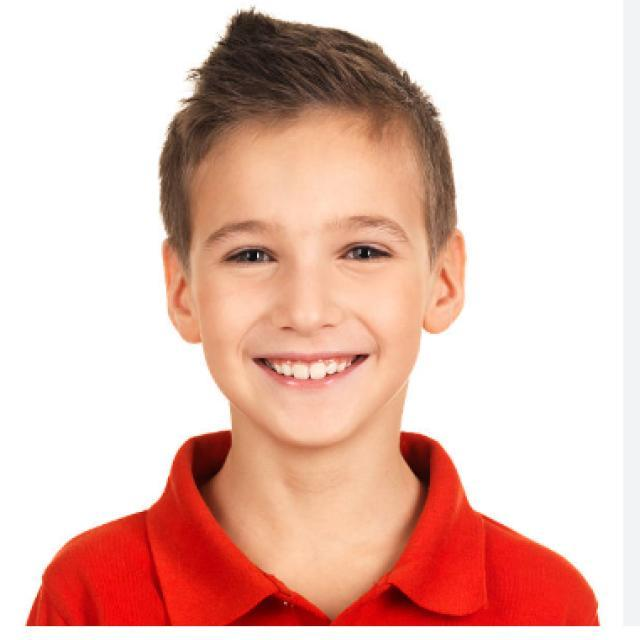face_no_mask: (155, 115, 468, 438)
